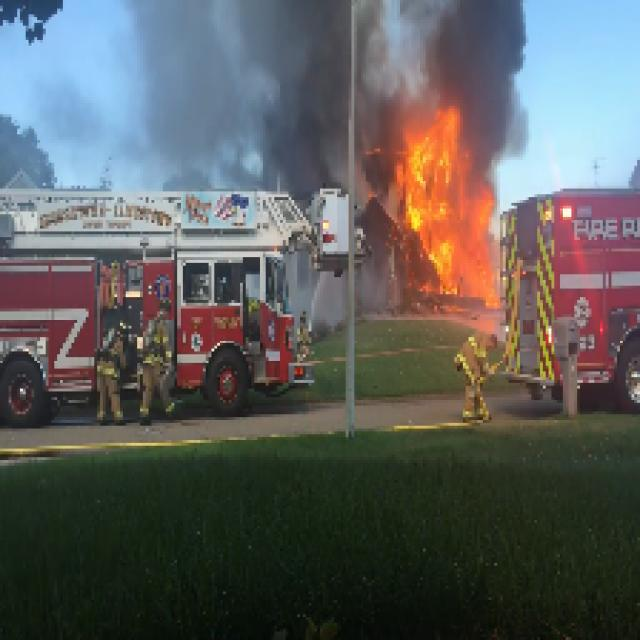Fire: (408, 127, 476, 300)
Smoke: (258, 2, 382, 188), (434, 4, 520, 119)
